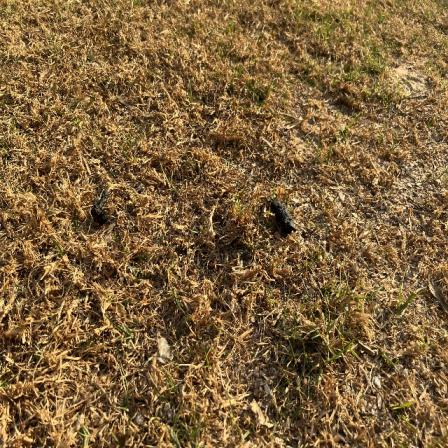dog-poop: (265, 194, 300, 238), (88, 182, 120, 230)
